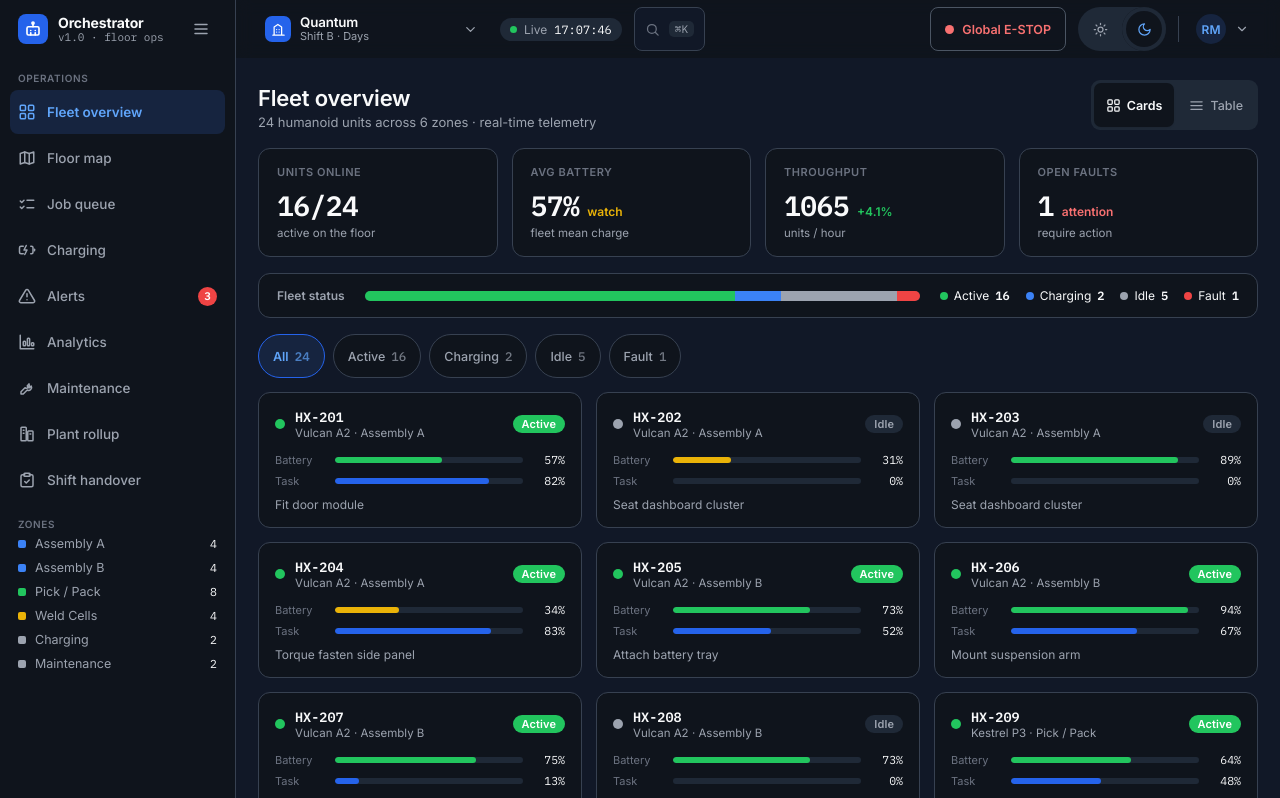
it: navigation › sidebar "Alerts" shows the Alerts & incidents screen
Click the button "Alerts 3".
click(118, 296)  # box [10,274,225,318]
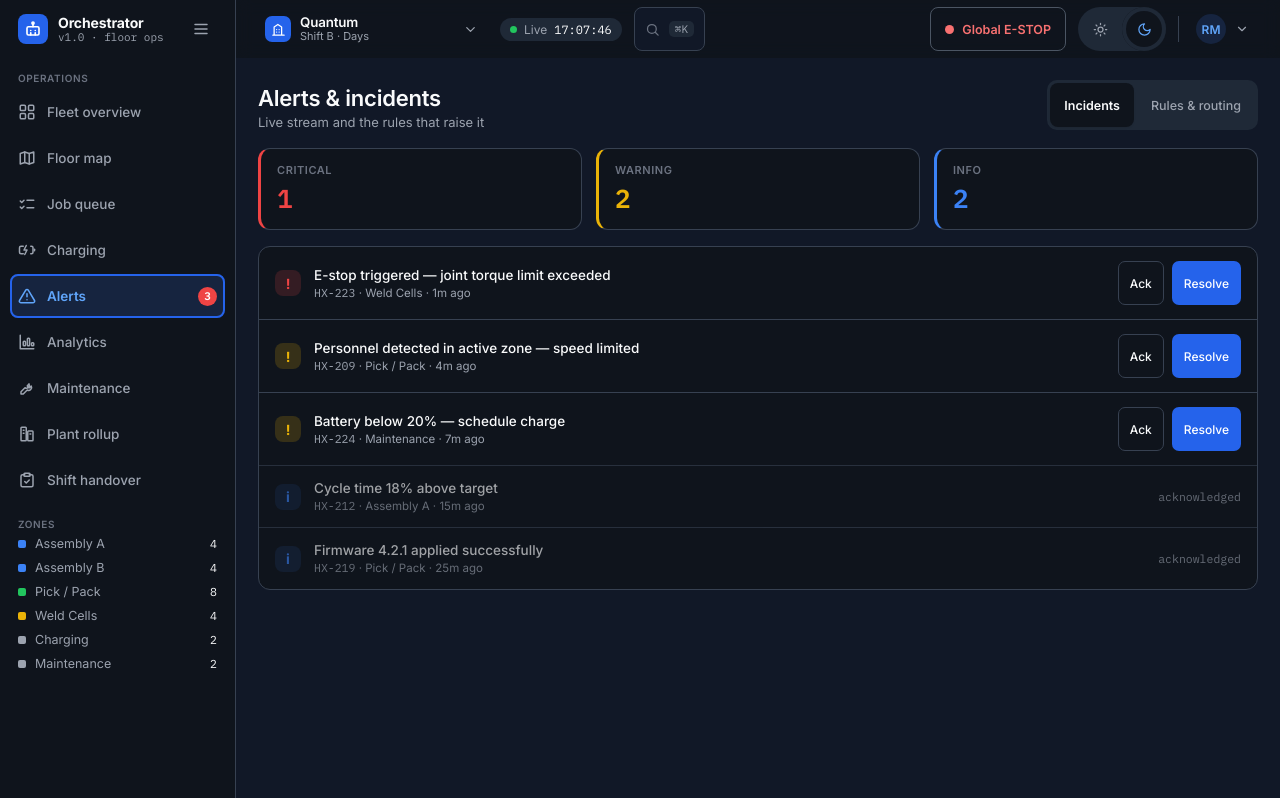
Expected: the heading "Alerts & incidents" is shown, [258,85,441,111]
